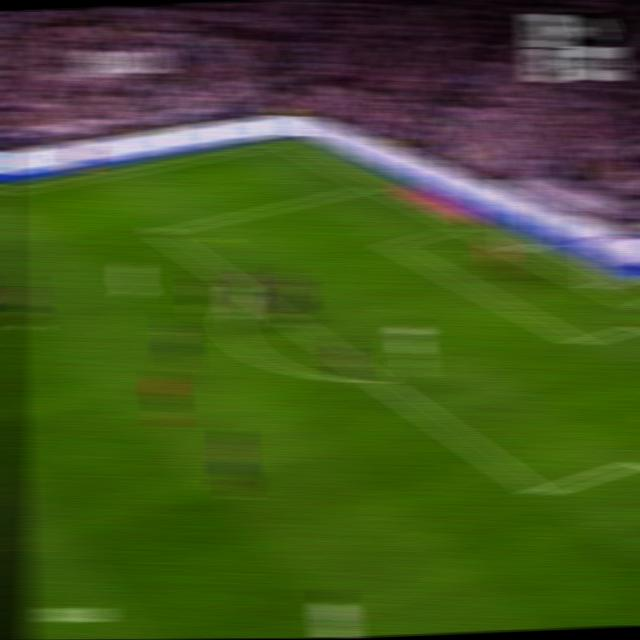bigarea_bottom_inner: (526, 477, 554, 508)
bigarea_top_inner: (150, 222, 173, 242)
bigarea_top_outter: (359, 177, 382, 193)
bottom_arc_area_intersection: (361, 364, 389, 394)
corner: (270, 137, 294, 149)
smallarea_bottom_inner: (567, 331, 592, 354)
smallarea_top_inner: (382, 237, 404, 252)
